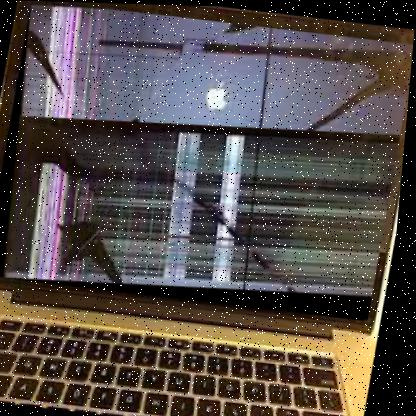crack: (0, 0, 415, 321)
lines: (0, 116, 398, 320), (12, 7, 120, 248)
